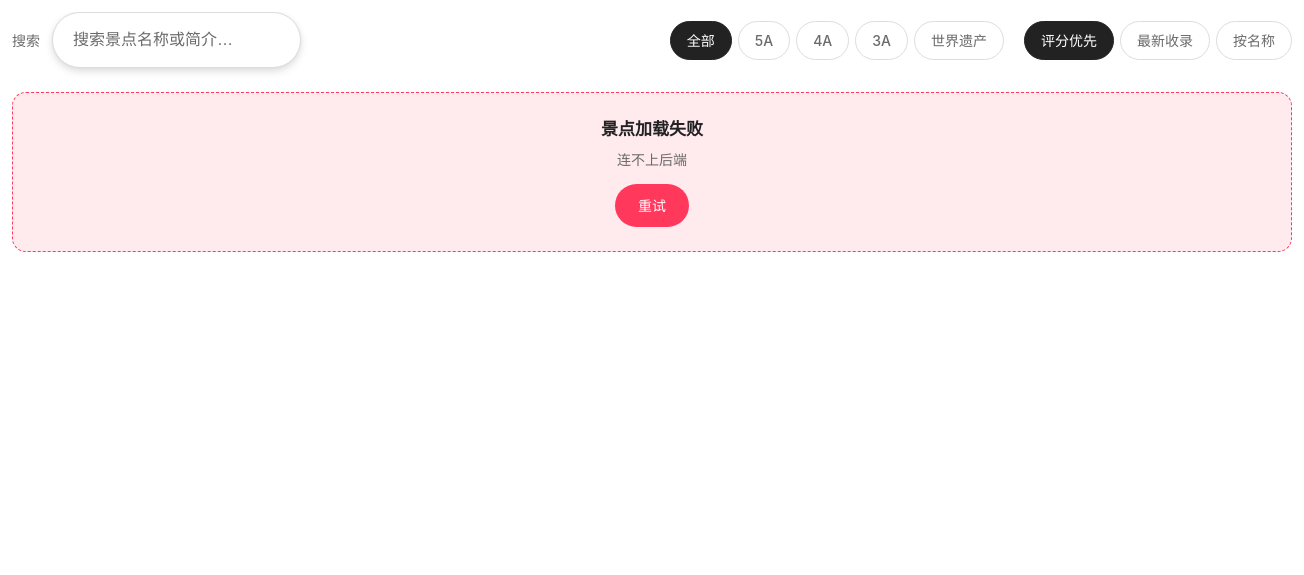
Test: AttractionBrowser › 请求失败显示错误态, 点重试会重新请求
Expected: the message shows "景点加载失败", 601,119 -> 703,139
Expected: the message shows "连不上后端", 617,150 -> 687,168
What coordinates should you click on to do the following:
click the button "重试"
I would click on:
 (652, 205)
Its box is 615,184 -> 689,226.
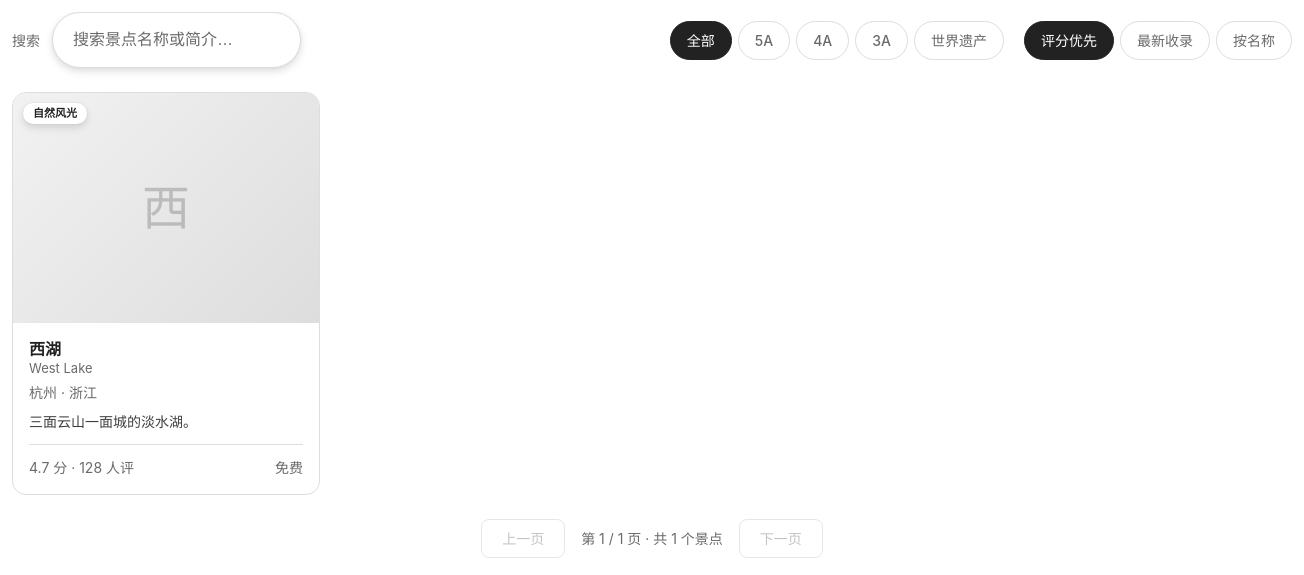
Expected: the heading "西湖" is shown, 29,338 -> 61,358
